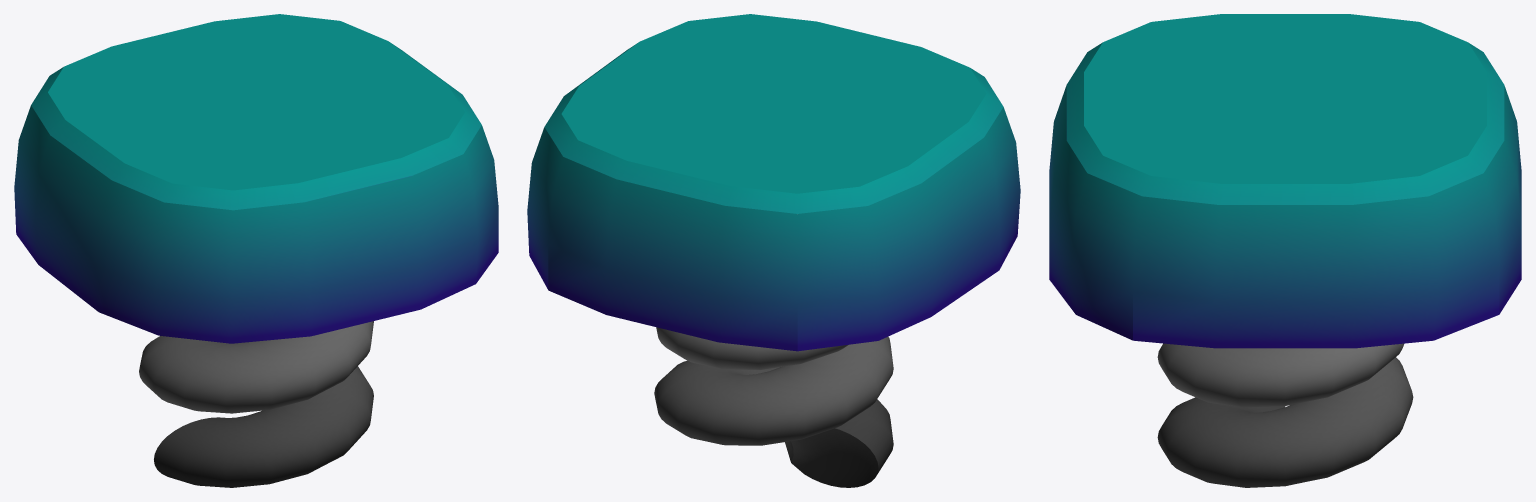
File: Bumper.fbx
3 renders of one model, left to right at view 1: azimuth 30°, elevation 25°; view 2: azimuth 150°, elevation 25°; view 3: azimuth 270°, elevation 25°, orthographic. The views are drawn at different scales.
Parts seen in each view (by area): view 1: Bumper.001; view 2: Bumper.001; view 3: Bumper.001.
Part boxes in pixels (bbox=[...]): Bumper.001: bbox=[14, 14, 498, 487]; Bumper.001: bbox=[527, 14, 1020, 487]; Bumper.001: bbox=[1049, 14, 1521, 487].
Bounding box in the file's own units: 100 × 101 × 91.43.
